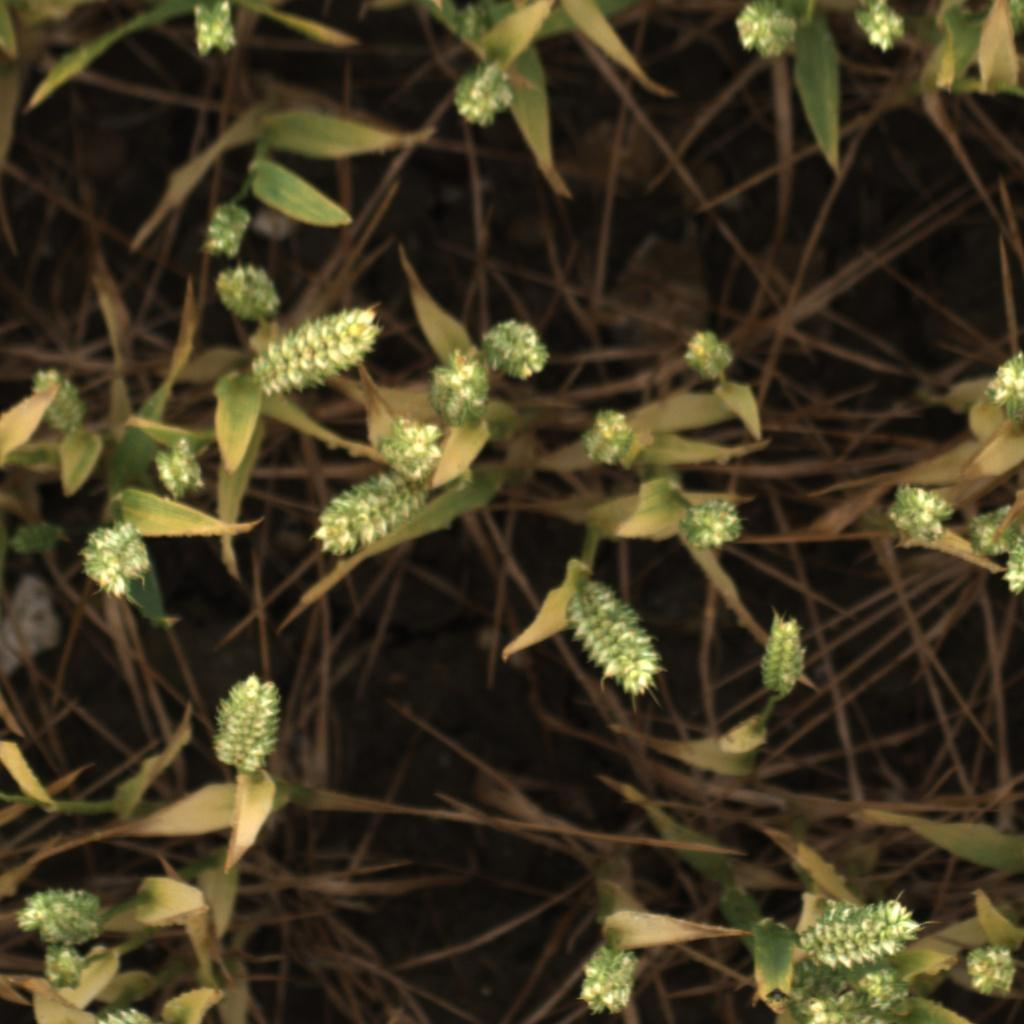0-0: (309, 460, 451, 567), (788, 886, 934, 970), (252, 306, 383, 398), (560, 583, 661, 700), (208, 670, 290, 776), (563, 938, 649, 1020), (78, 519, 157, 603), (12, 877, 107, 944), (747, 608, 813, 702), (780, 962, 879, 1024), (374, 419, 458, 487), (205, 259, 288, 323), (567, 405, 644, 469), (674, 496, 753, 557), (448, 58, 514, 130), (727, 0, 804, 59), (426, 352, 490, 422), (674, 325, 744, 388), (883, 487, 955, 548), (30, 359, 87, 436), (956, 938, 1024, 1001), (152, 434, 215, 501), (0, 507, 70, 567), (482, 318, 548, 381), (960, 490, 1021, 554), (197, 197, 254, 265), (185, 0, 245, 63), (852, 965, 927, 1015), (849, 0, 912, 57), (980, 342, 1023, 417), (37, 942, 88, 996), (1001, 532, 1024, 594)
